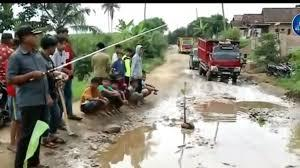Pothole: (88, 89, 300, 167)
